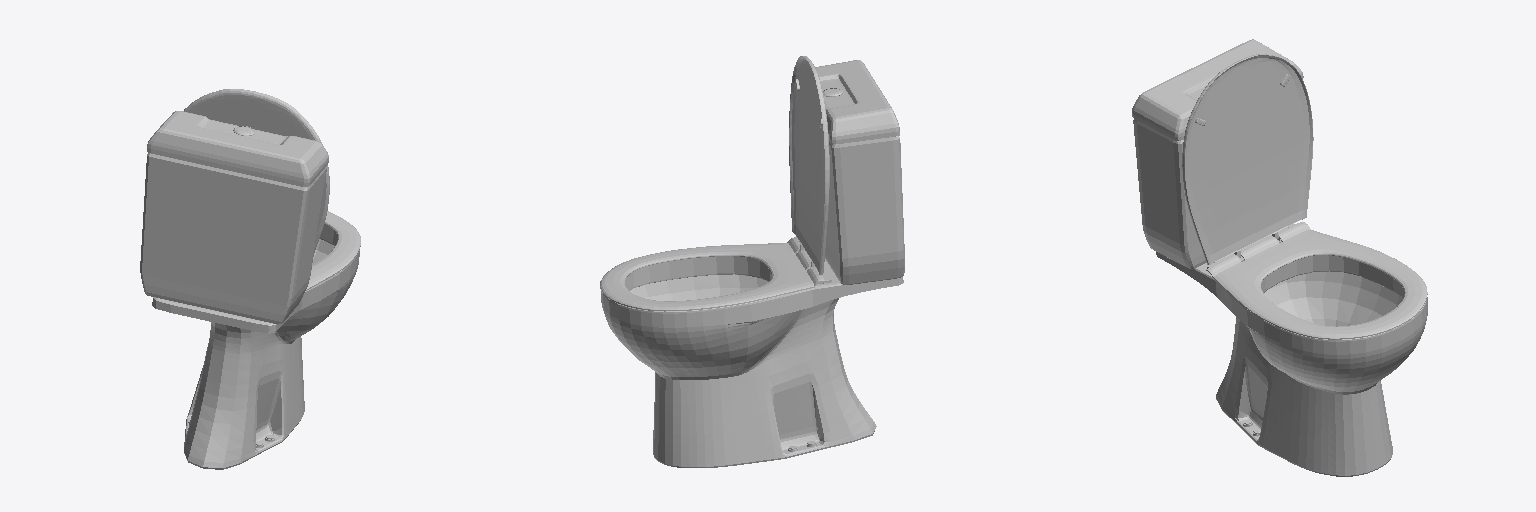
Rendered from toilet.obj.
The picture shows the model from 3 angles: view 1: azimuth 30°, elevation 25°; view 2: azimuth 150°, elevation 25°; view 3: azimuth 270°, elevation 25°; orthographic projection.
Parts seen in each view (by area): view 1: toilet; view 2: toilet; view 3: toilet.
Boxes of the visible parts, x1,y1,x2,y2 form: toilet: [140, 89, 360, 469]; toilet: [600, 56, 904, 467]; toilet: [1132, 39, 1427, 476].
Bounding box in the file's own units: 0.5498 × 0.7728 × 0.5613.